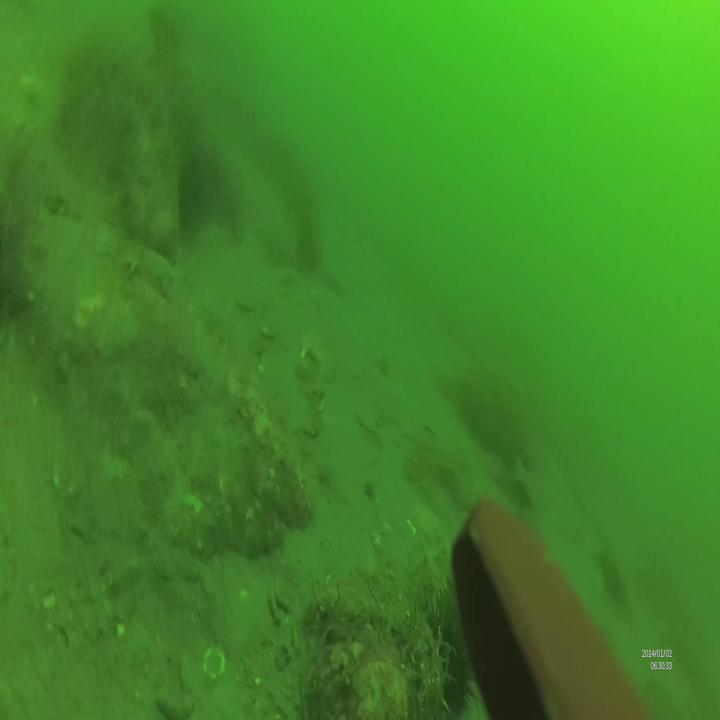echinus: (418, 580, 479, 720)
